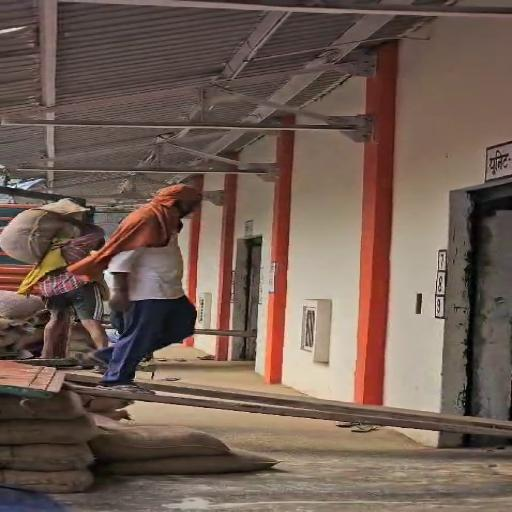bag: (5, 194, 110, 271)
